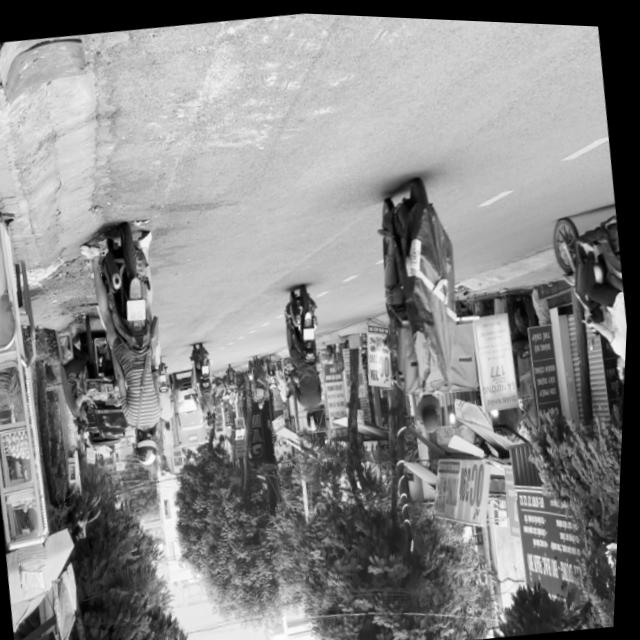helmet: (135, 424, 165, 466)
licenseplate: (362, 169, 487, 440), (79, 216, 190, 472), (537, 183, 634, 389)
motorcyclist: (420, 387, 448, 431), (615, 344, 629, 380)
nohelmet: (128, 296, 150, 319)
